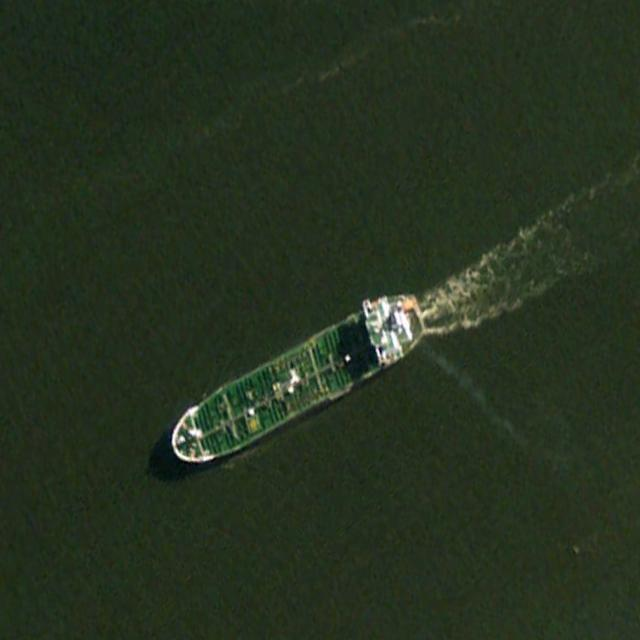Cargo: (164, 279, 430, 483)
